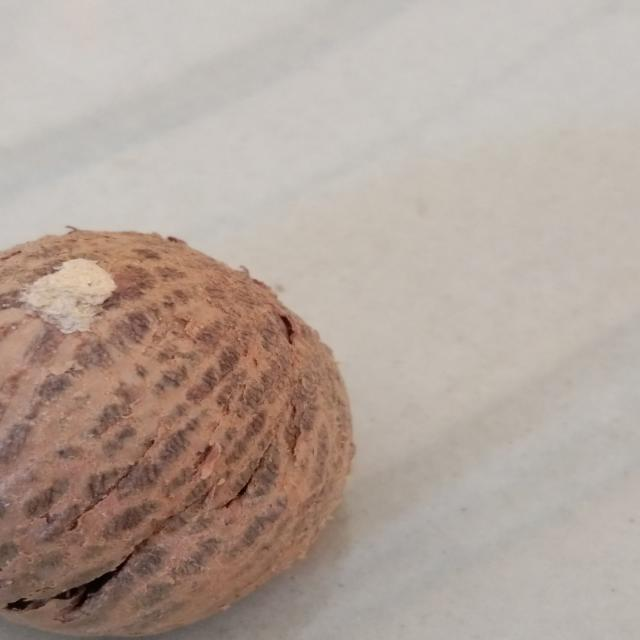phatora: (0, 216, 378, 640)
